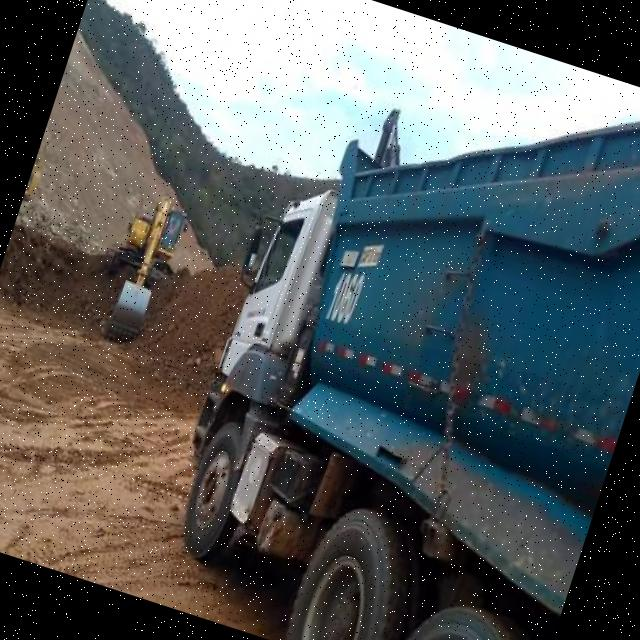Dump Truck: (132, 0, 640, 640)
Excavator: (80, 182, 195, 353)
